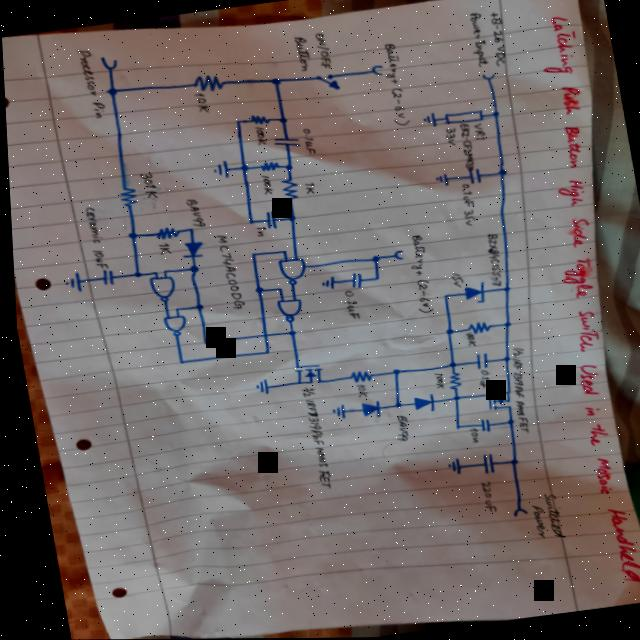capacitor: (473, 452, 492, 476), (269, 135, 299, 150), (95, 268, 113, 287), (260, 209, 276, 230), (344, 271, 361, 289), (463, 168, 480, 186), (468, 352, 485, 370), (473, 418, 488, 433)
crossover: (255, 331, 266, 340)
diode: (456, 281, 485, 305), (176, 239, 203, 260), (406, 392, 431, 414), (354, 398, 379, 420)
ground: (208, 159, 229, 181), (60, 271, 80, 294), (248, 377, 267, 397), (439, 457, 458, 477), (324, 403, 343, 421), (430, 171, 448, 189), (315, 274, 333, 291), (419, 111, 436, 129)
junction: (103, 84, 118, 96), (235, 163, 248, 174), (493, 168, 506, 178), (122, 231, 136, 240), (267, 76, 281, 85), (280, 329, 294, 338), (184, 265, 197, 274), (502, 458, 515, 467), (275, 115, 287, 124), (499, 418, 511, 427), (257, 348, 269, 357), (387, 401, 398, 410), (283, 213, 294, 222), (488, 110, 499, 119), (129, 269, 140, 278), (366, 254, 377, 263), (196, 337, 207, 346), (497, 321, 509, 329), (181, 225, 193, 233), (439, 328, 450, 336), (442, 361, 453, 369), (497, 285, 508, 293), (446, 394, 457, 402), (190, 303, 200, 311), (242, 218, 253, 225), (497, 355, 506, 363), (368, 275, 378, 282), (231, 119, 241, 126), (168, 305, 178, 312), (386, 368, 396, 375), (281, 164, 291, 171), (250, 286, 259, 293), (437, 293, 446, 300), (172, 358, 181, 365), (245, 251, 254, 258), (448, 424, 456, 431), (276, 248, 284, 255), (272, 286, 279, 293), (158, 269, 165, 274), (149, 270, 155, 275)
resistor: (189, 72, 224, 94), (441, 108, 483, 126), (115, 184, 138, 208), (277, 177, 298, 201), (343, 369, 368, 385), (151, 226, 177, 241), (463, 320, 488, 335), (441, 371, 458, 391), (247, 113, 268, 128), (257, 160, 277, 173)
source: (387, 249, 403, 262)
switch: (312, 71, 338, 93)
terminal: (96, 53, 119, 73), (368, 64, 383, 78), (505, 508, 523, 518), (479, 72, 495, 81)
text: (513, 13, 640, 591), (295, 384, 327, 487), (500, 347, 533, 435), (212, 232, 242, 311), (74, 47, 105, 120), (463, 11, 490, 69), (483, 11, 509, 68), (478, 233, 502, 289), (536, 491, 560, 540), (378, 40, 403, 86), (401, 234, 427, 278), (454, 123, 475, 172), (386, 87, 409, 127), (80, 205, 100, 245), (292, 35, 313, 73), (408, 278, 430, 314), (312, 32, 331, 70), (472, 480, 492, 515), (337, 289, 358, 322), (182, 197, 203, 229), (524, 504, 542, 539), (387, 414, 407, 444), (137, 171, 157, 200), (87, 246, 107, 270), (298, 127, 315, 155), (457, 183, 473, 208), (192, 92, 209, 114), (470, 369, 487, 391), (469, 121, 485, 142), (257, 174, 272, 196), (252, 126, 267, 147), (445, 271, 462, 289), (442, 127, 457, 147), (427, 372, 442, 391), (349, 383, 364, 399), (459, 331, 473, 348), (459, 209, 473, 226), (154, 242, 169, 256), (463, 428, 475, 445), (250, 225, 264, 238), (300, 182, 314, 195)
transistor: (286, 361, 324, 389), (480, 389, 509, 412)
